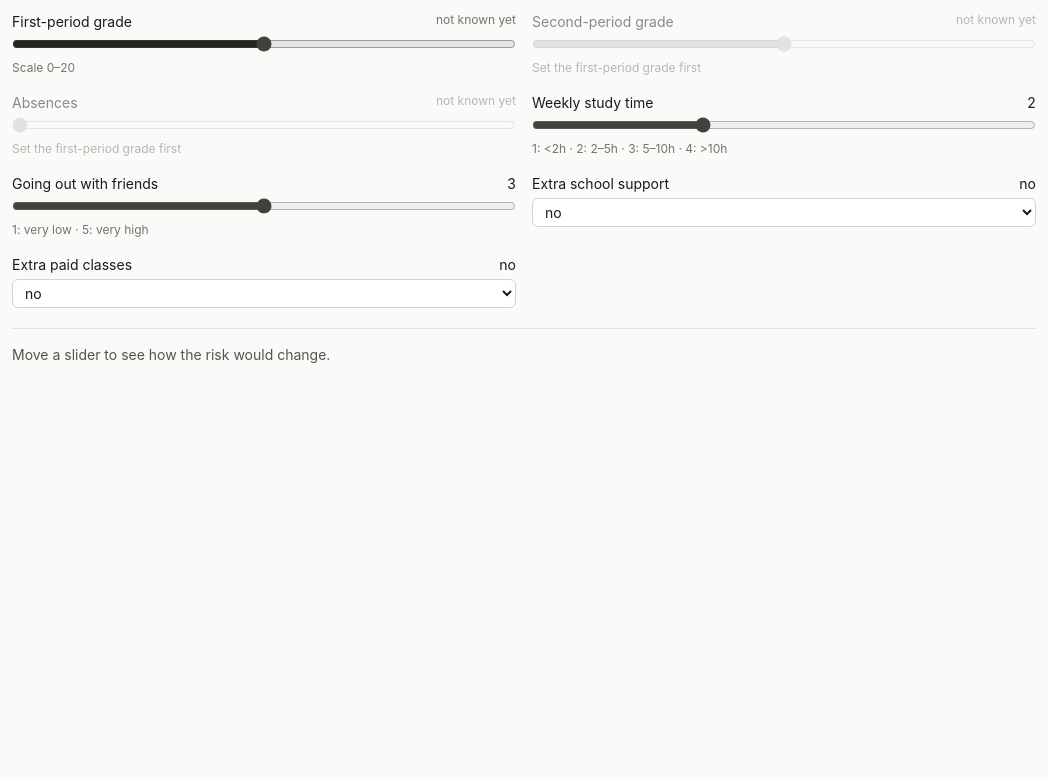
WhatIfPanel › early in the term: grades start as not known, and setting G1 switches model
This screenshot has width=1048, height=780.
Check: the text "not known yet" is shown 3 times, box [436, 12, 516, 32]; [956, 12, 1036, 32]; [436, 93, 516, 113]
Check: the 2nd slider is disabled, box [532, 36, 1036, 52]
Set the slider labelled "First-period grade not known yet Scale 0–20" to "8" at (215, 44), box [12, 36, 516, 52]
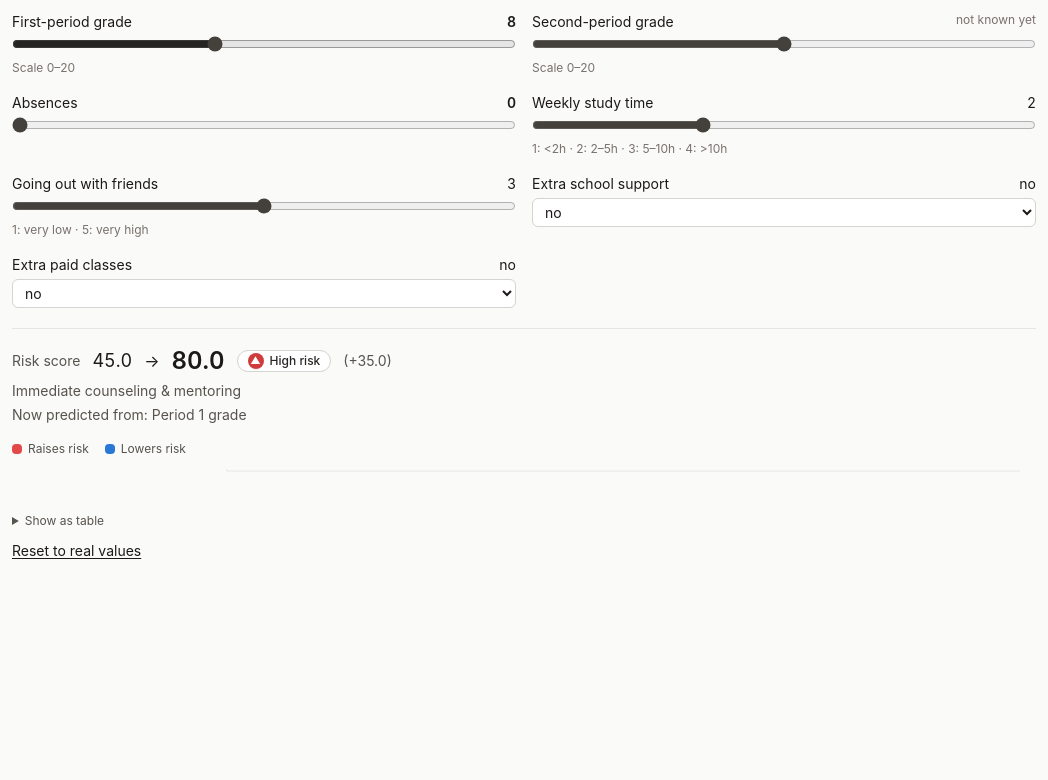
Check: the text "Now predicted from: Period 1 grade" is shown, box [12, 406, 247, 423]
Check: the slider labelled "Second-period grade not known yet Scale 0–20" is enabled, box [532, 36, 1036, 52]
Check: the slider labelled "Absences 0" is enabled, box [12, 117, 516, 133]
